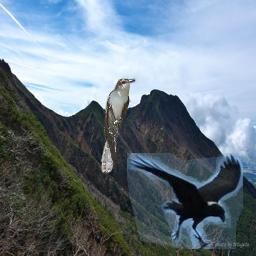Crow: (127, 153, 243, 249)
Cuckoo: (100, 77, 136, 173)
